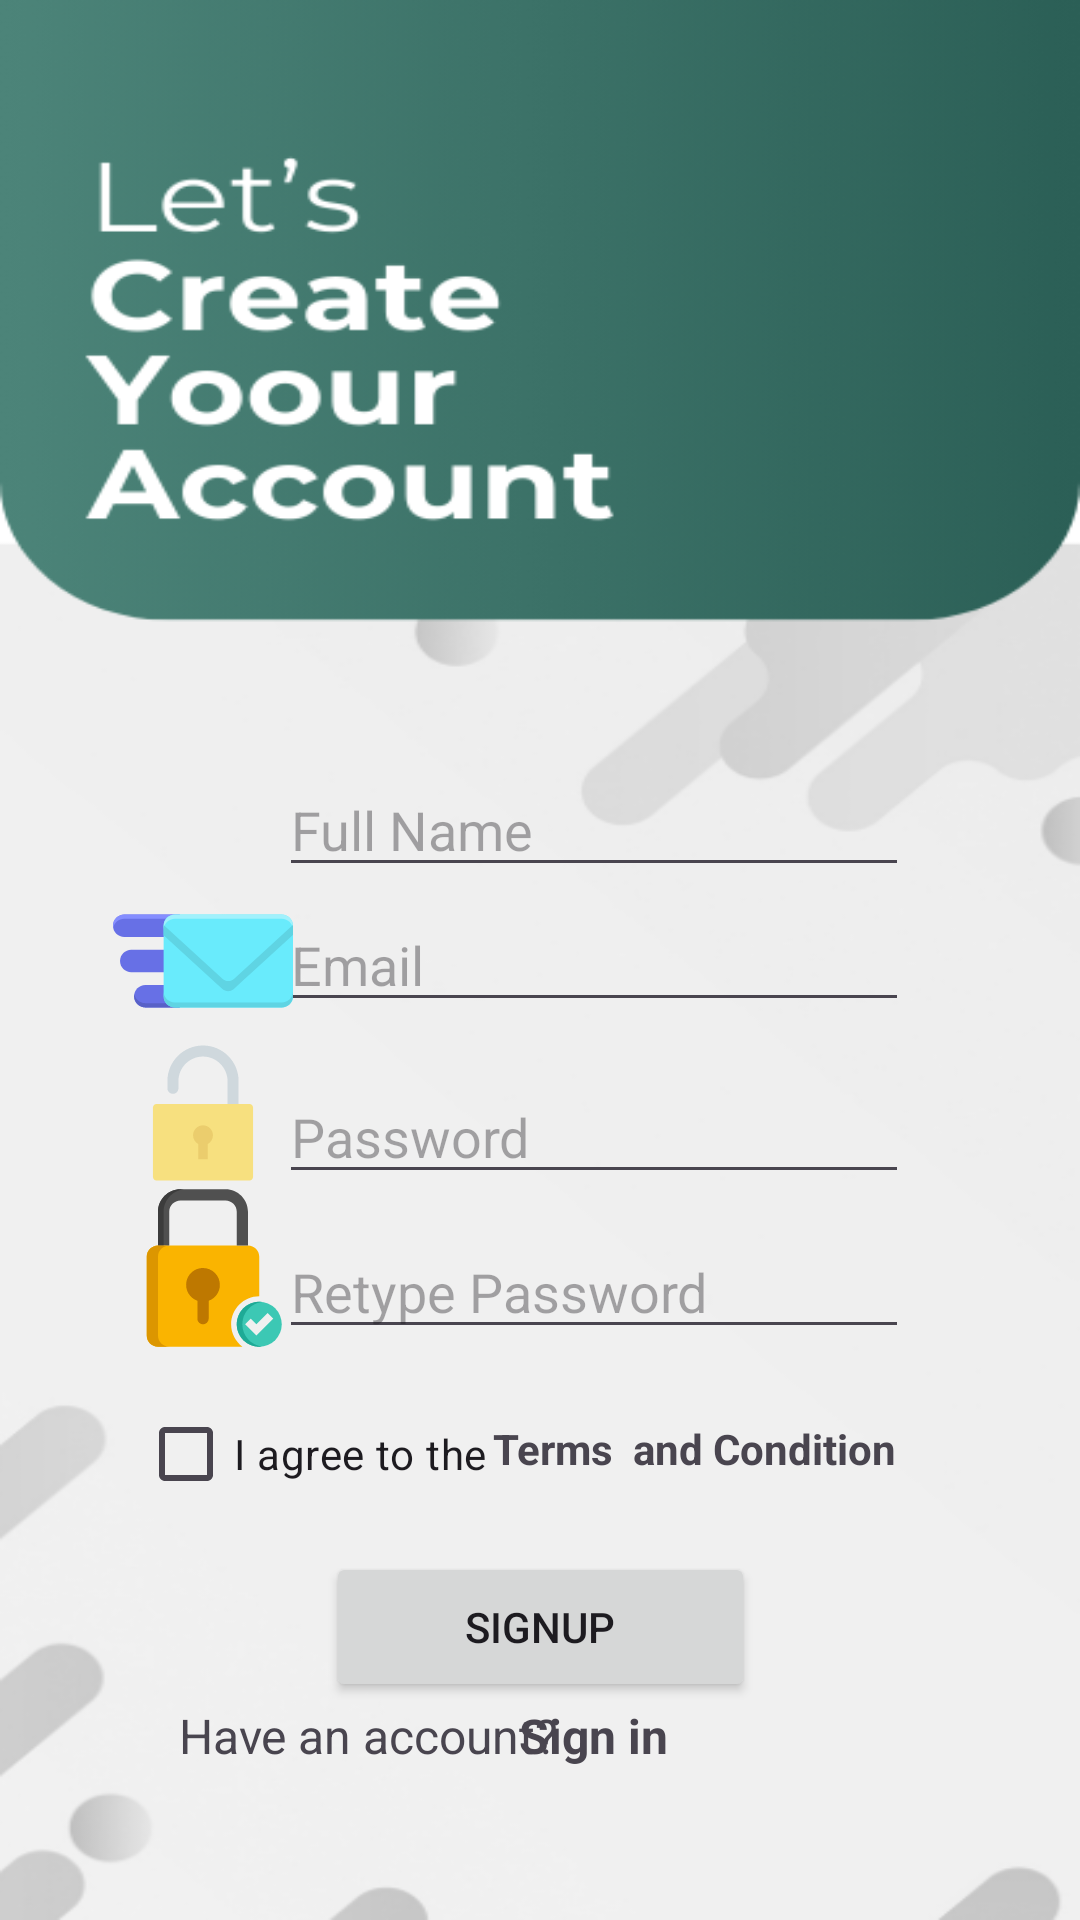

Icons on this 1080x1920 Android screen, each with its box as (x1,y1,x2,y2):
lock: (153,1046,253,1181)
relock: (146,1189,282,1347)
